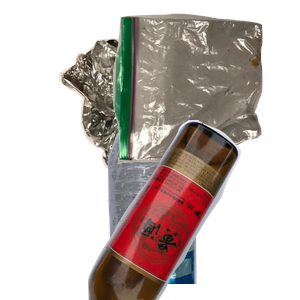glass: (85, 120, 300, 300)
metal: (57, 36, 241, 216)
plastic: (96, 120, 285, 300)
trash: (110, 11, 300, 167)
